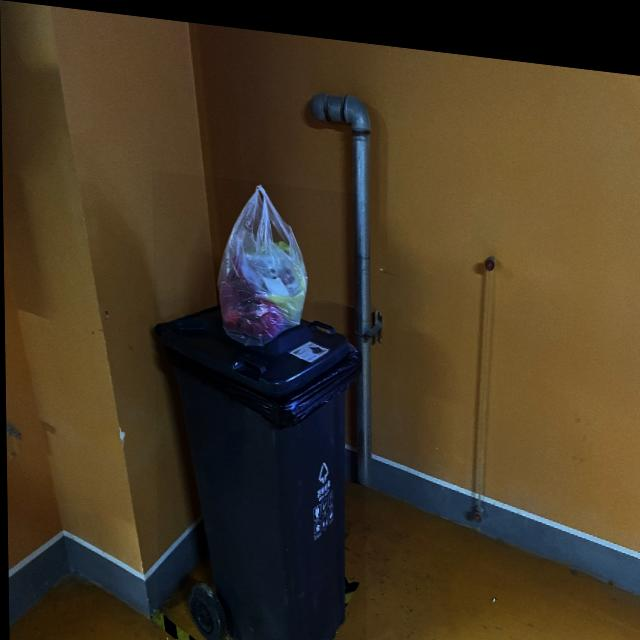overflow: (152, 166, 365, 640)
